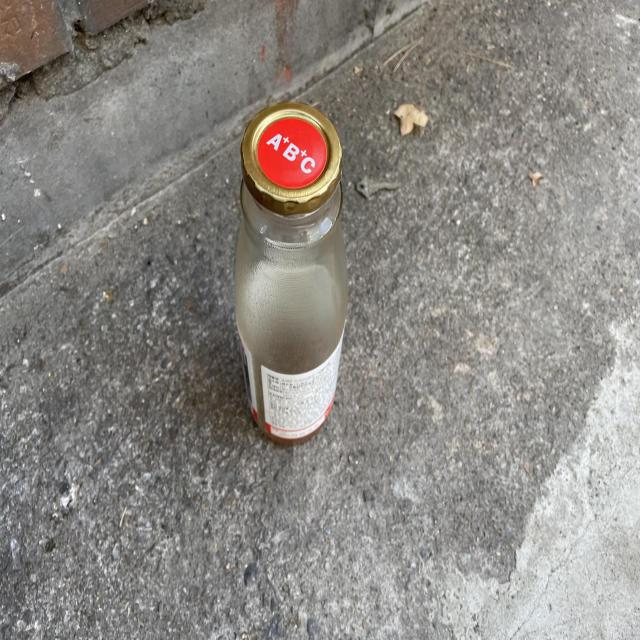glass: (235, 101, 348, 446)
